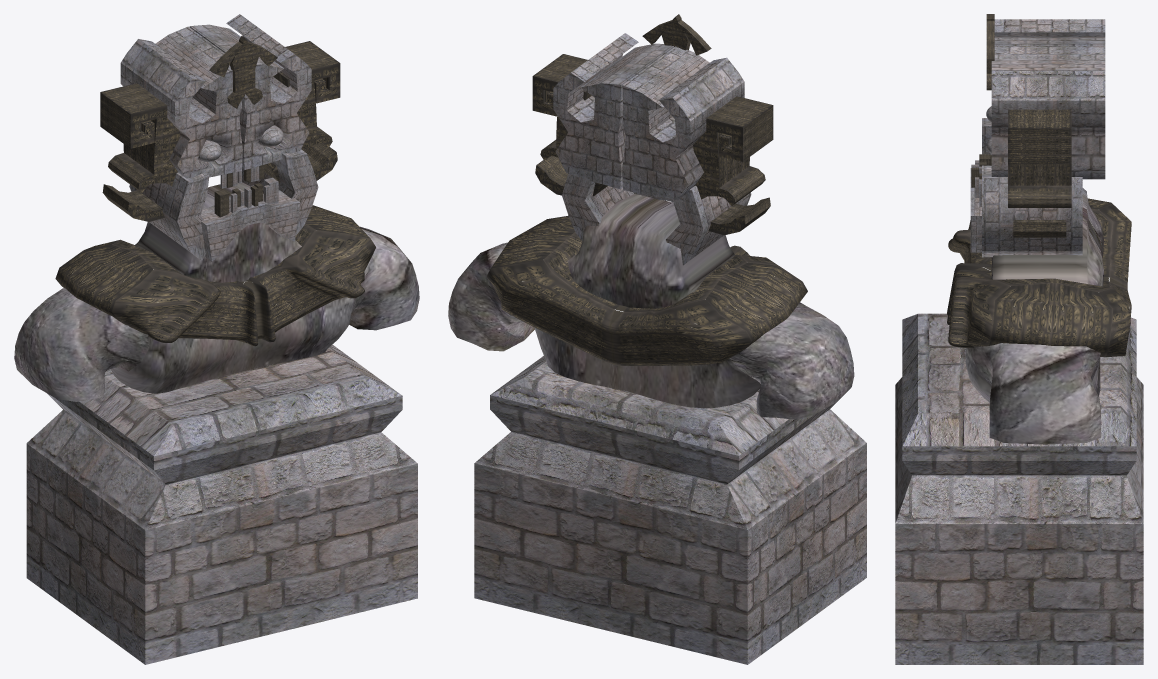
File: MayanGodStatueBust.FBX
3 views of the same model, side by side, from view 1: azimuth 30°, elevation 25°; view 2: azimuth 150°, elevation 25°; view 3: azimuth 270°, elevation 25° (orthographic). The views are drawn at different scales.
Visible parts, largest first — view 1: Box001, Mask_01, Body, Armor_Neck; view 2: Box001, Mask_01, Body, Armor_Neck; view 3: Box001, Mask_01, Body, Armor_Neck.
Part boxes in pixels (x1,y1,x2,y2): Box001: (26, 344, 417, 664); Mask_01: (100, 14, 340, 261); Body: (14, 182, 419, 401); Armor_Neck: (55, 205, 375, 346); Box001: (474, 356, 866, 664); Mask_01: (532, 14, 773, 265); Body: (448, 194, 854, 419); Armor_Neck: (486, 215, 807, 365); Box001: (895, 313, 1143, 664); Mask_01: (970, 14, 1105, 257); Body: (965, 188, 1103, 444); Armor_Neck: (947, 198, 1131, 357).
Bounding box in the file's own units: 28.06 × 39.99 × 15.39.
Materials: 3 (3 with a texture image).
